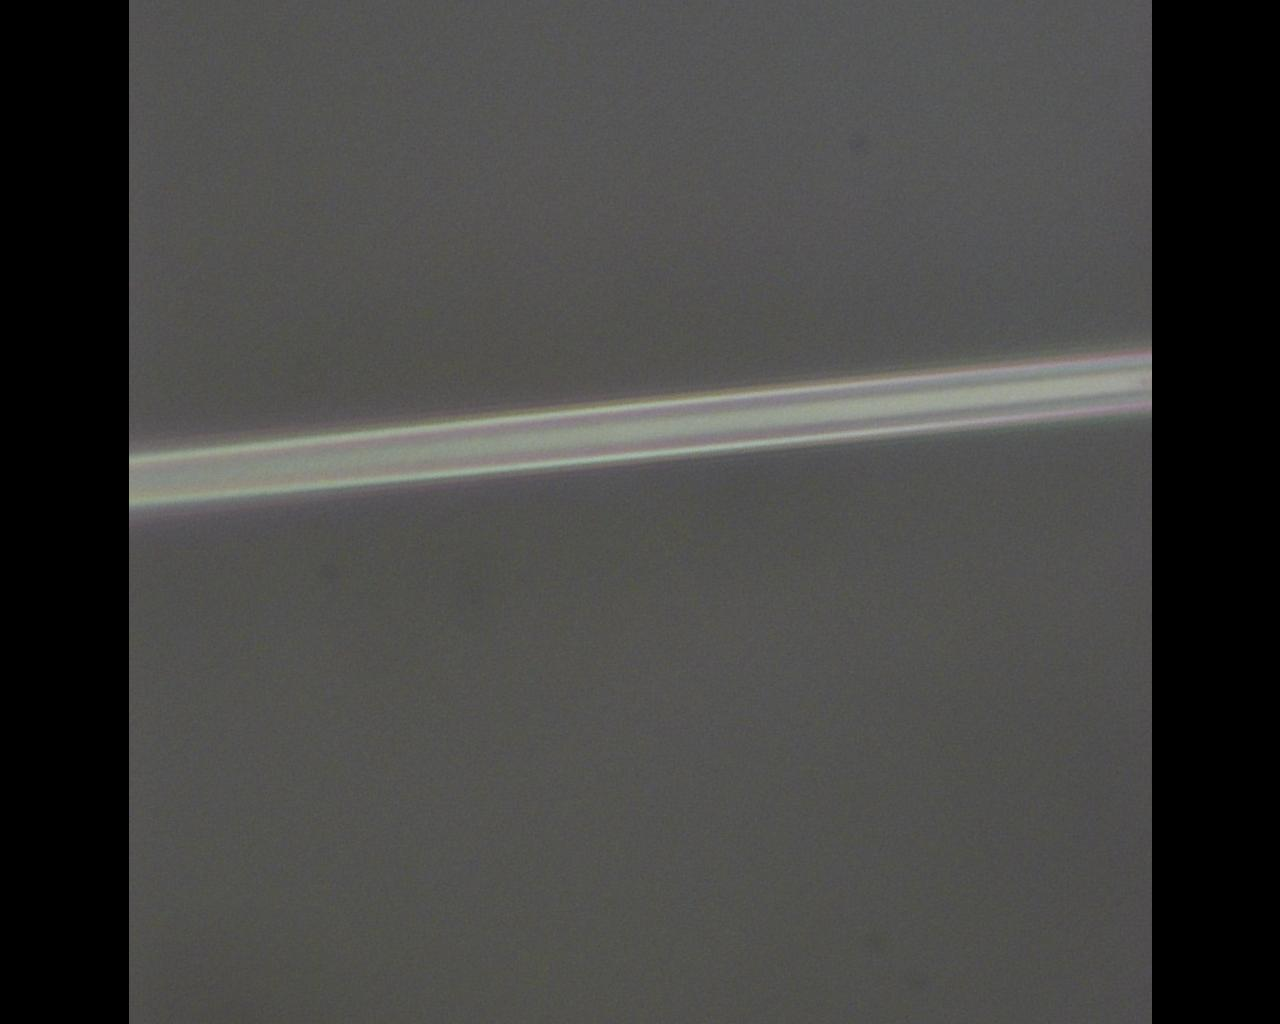fiber: (128, 347, 1152, 513)
